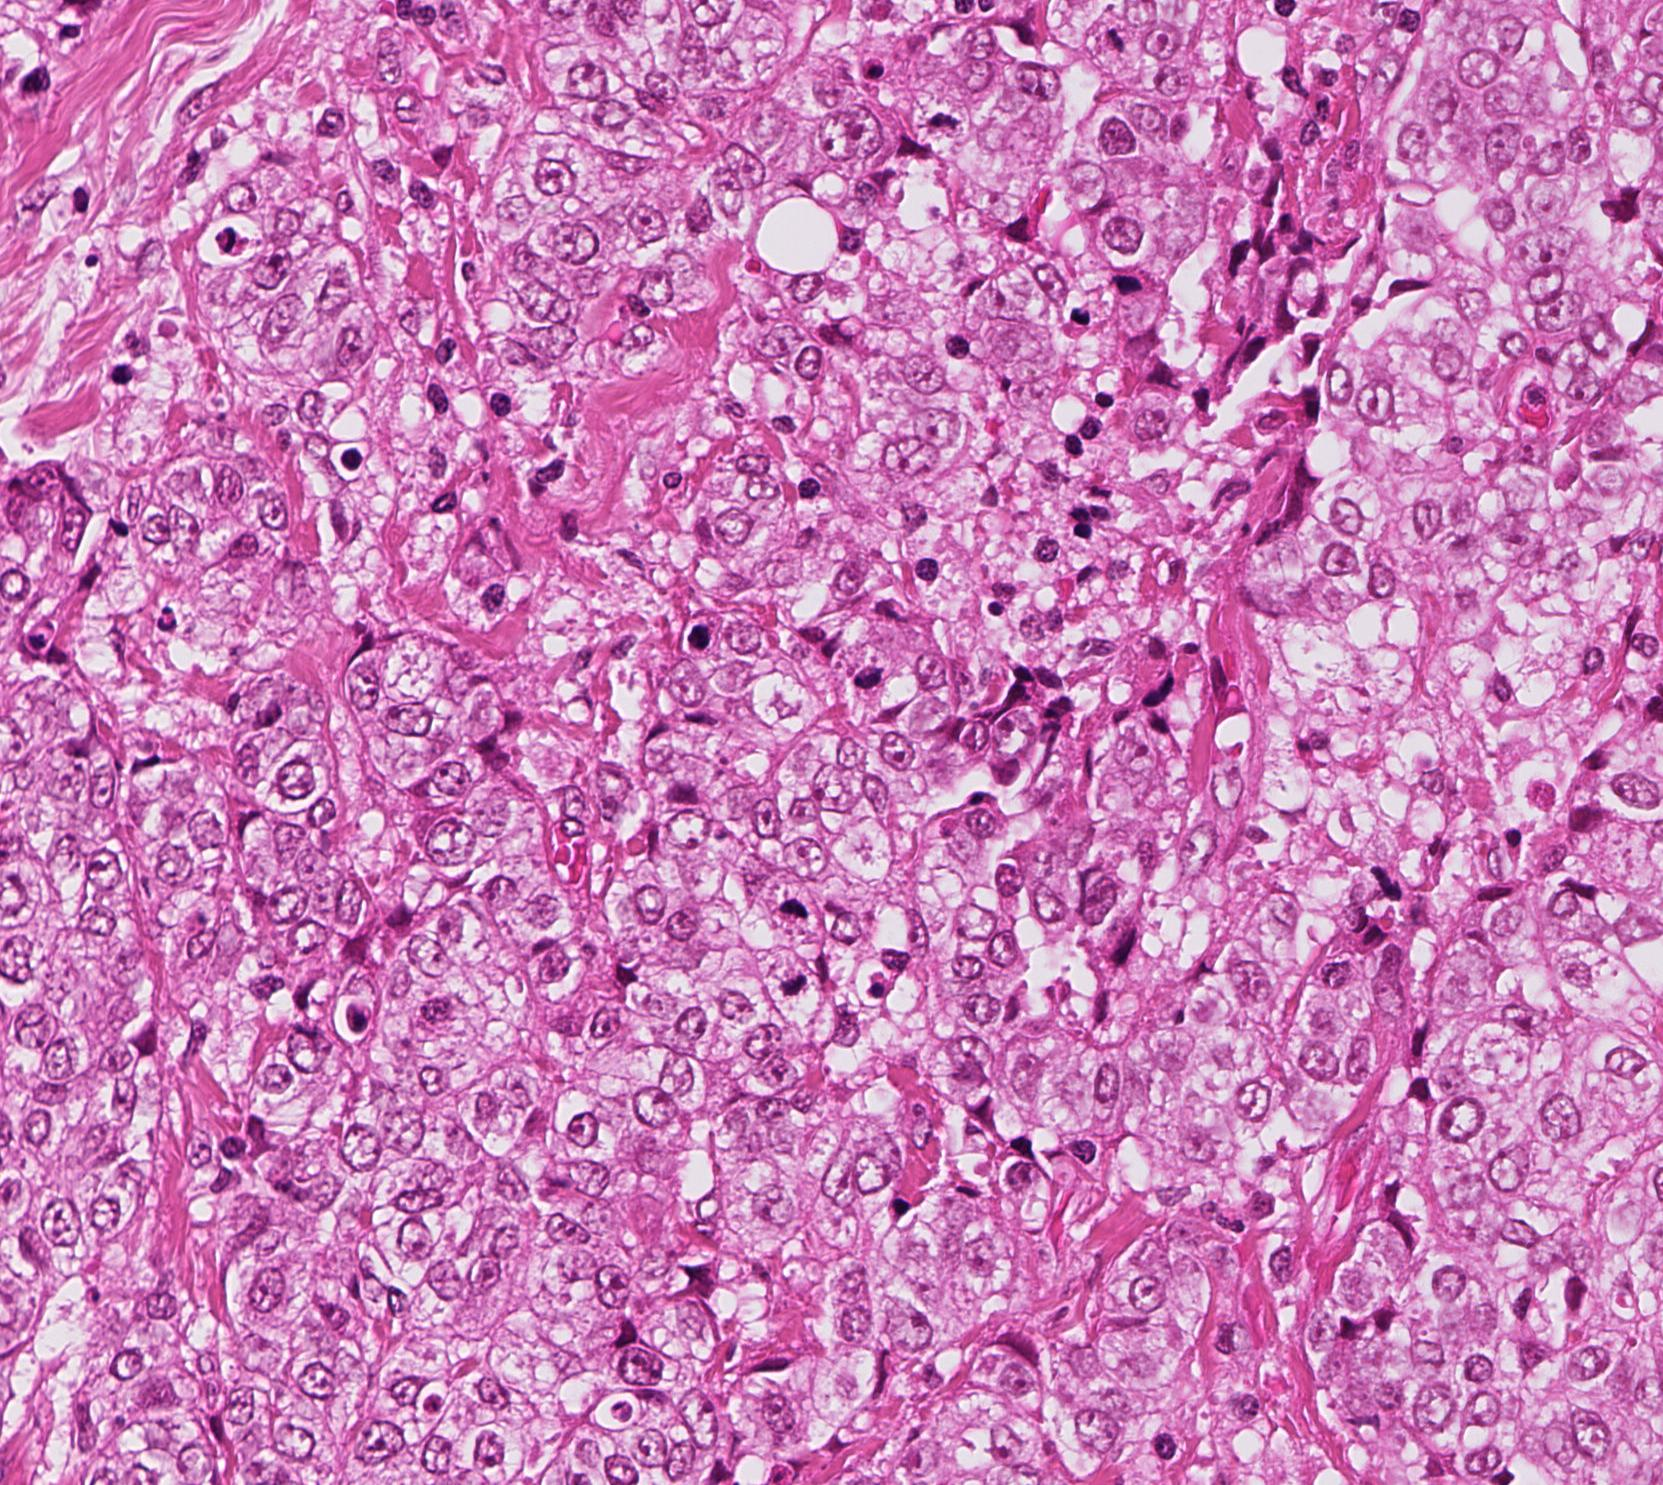mitosis: (763, 952, 821, 1012)
